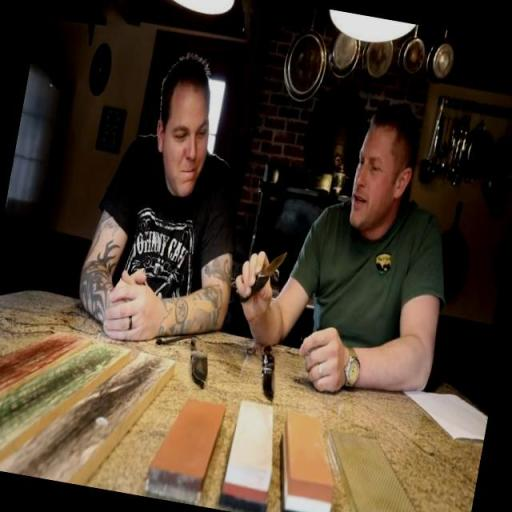knife: (240, 240, 295, 309)
